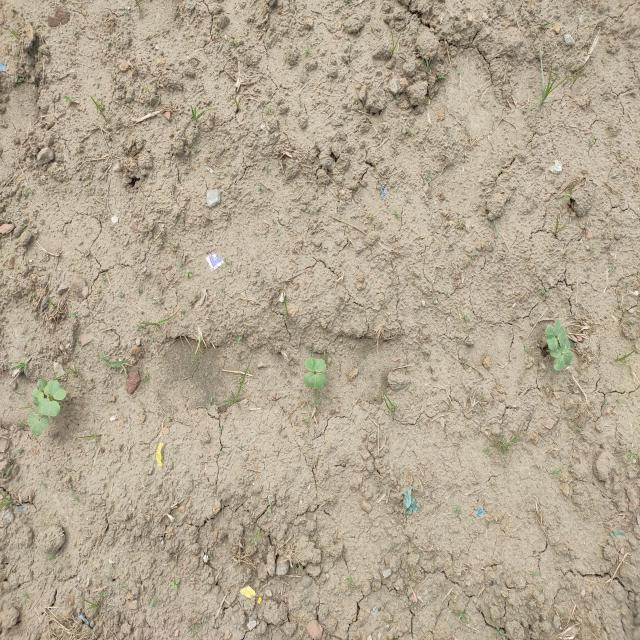seedling: (28, 412, 49, 436), (38, 398, 61, 417), (553, 351, 573, 371), (554, 319, 567, 348), (48, 380, 66, 400), (550, 340, 570, 358), (545, 325, 558, 351), (304, 357, 326, 372), (304, 373, 326, 388), (37, 379, 49, 395), (33, 389, 44, 402)
